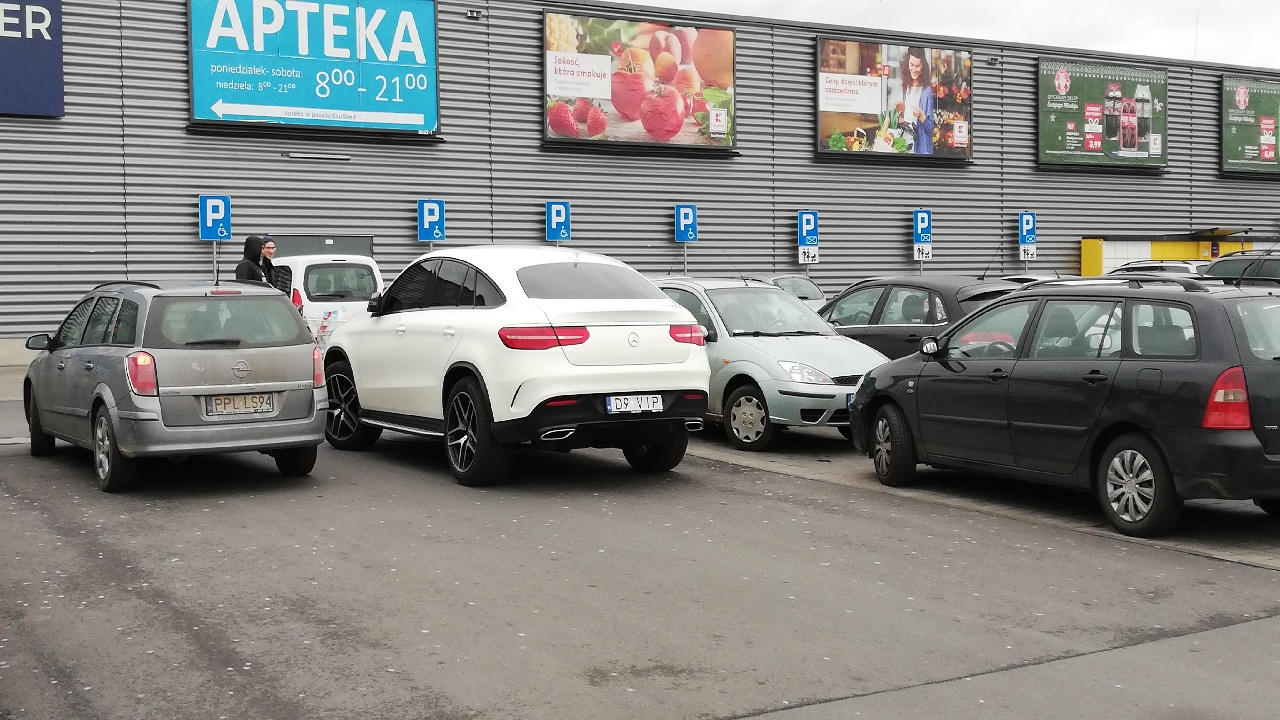D18: (199, 194, 232, 240), (418, 198, 444, 241), (547, 201, 570, 240), (677, 205, 697, 241), (798, 211, 818, 245), (913, 210, 932, 243), (1020, 212, 1037, 244)
